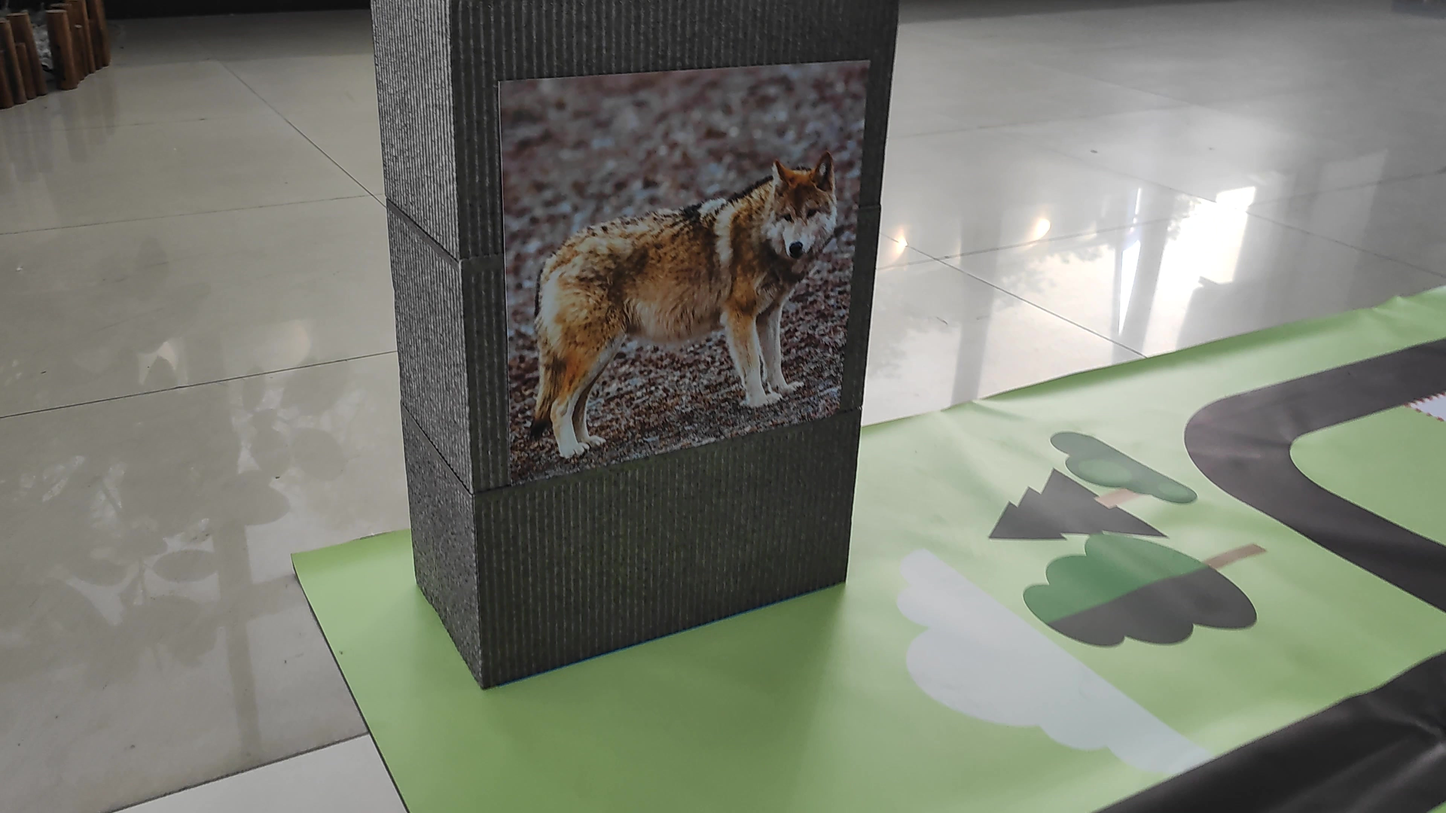wolf: (522, 149, 843, 454)
